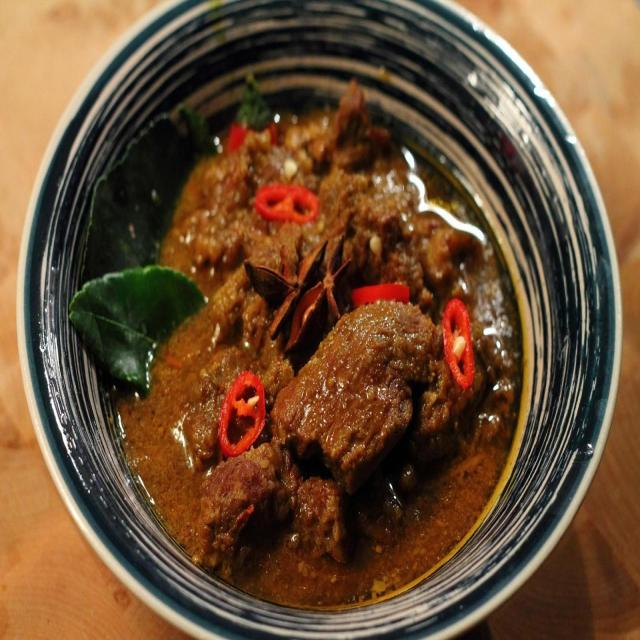Rendang: (121, 90, 509, 584)
